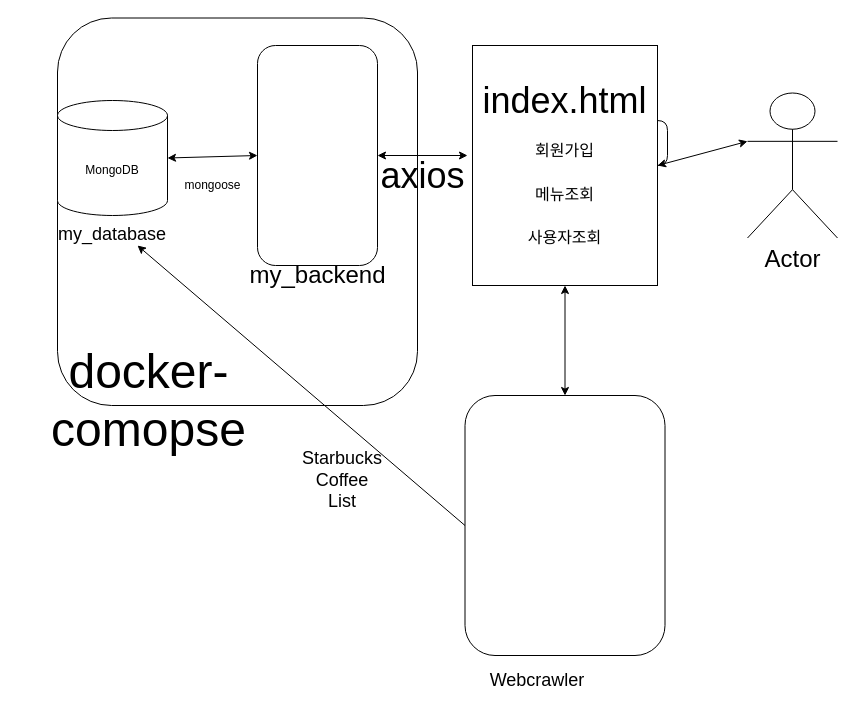
This 855x712 diagram has some shape labels left out. The centre of each missing label's shape, as x and y in pixels:
"index.js" belongs at point (564, 525).
"index.js 회원정보get,post 토큰get,post,patch 스타벅스get" belongs at point (317, 155).
